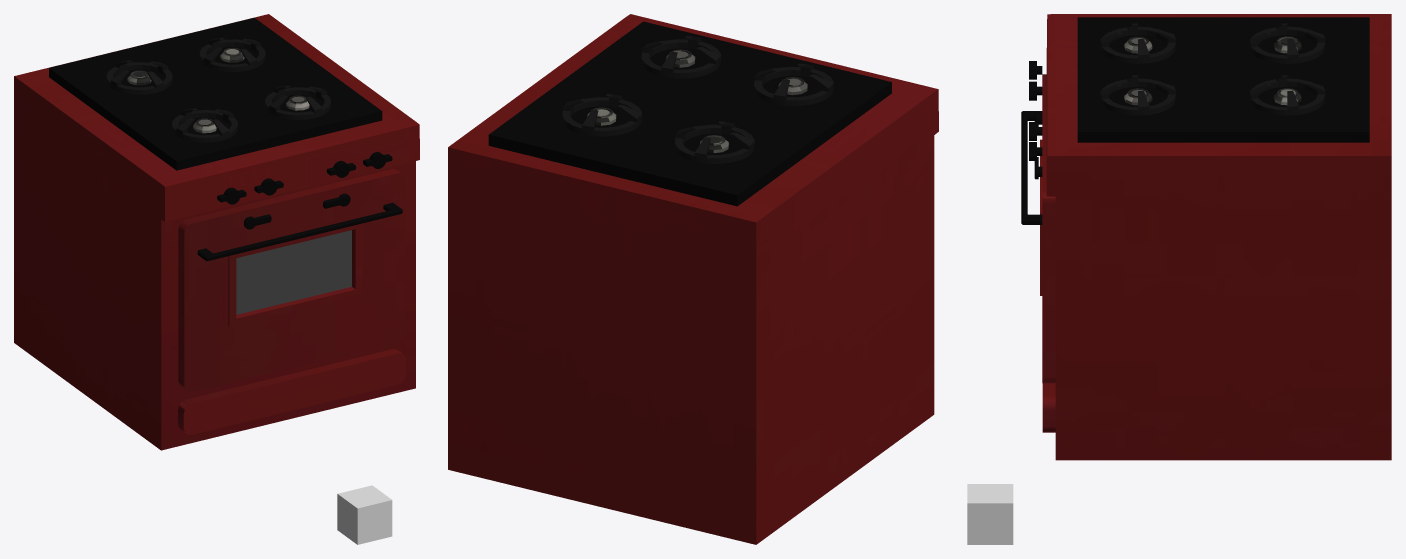
File: oven.glb
The picture shows the model from 3 angles, left to right: view 1: azimuth 30°, elevation 25°; view 2: azimuth 150°, elevation 25°; view 3: azimuth 270°, elevation 25°; orthographic projection. The views are drawn at different scales.
Parts seen in each view (by area): view 1: polySurface628, Cube; view 2: polySurface628; view 3: polySurface628, Cube.
Part boxes in pixels (x1,y1,x2,y2): polySurface628: (14, 14, 419, 450); Cube: (337, 485, 392, 544); polySurface628: (448, 14, 938, 544); polySurface628: (1021, 14, 1391, 460); Cube: (967, 484, 1013, 544).
Size of the model in its own units: 14.63 by 21.63 by 18.47.
8 materials, 2 textured.
